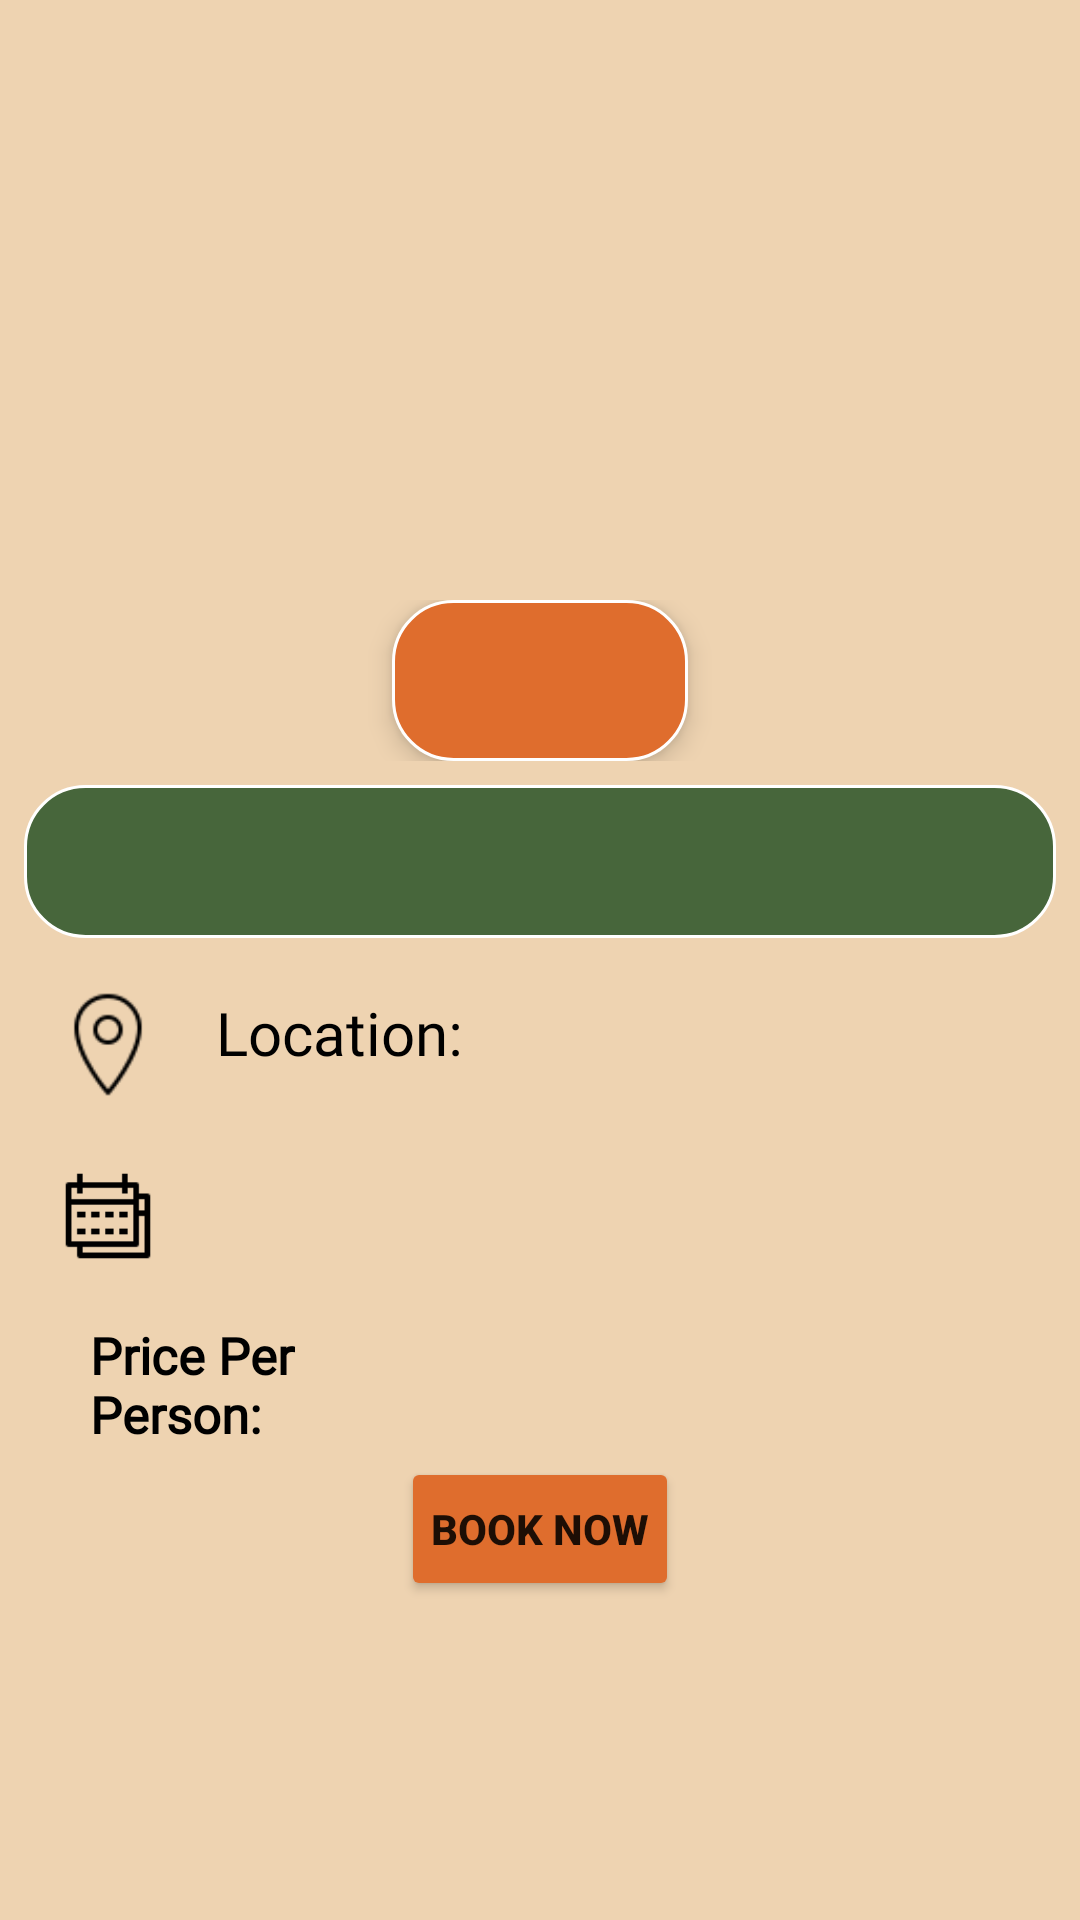

Icon bounding boxes for this 1080px x 1920px phone screenshot, format (x1, y1, x2, y2):
calender: (65, 1173, 151, 1259)
